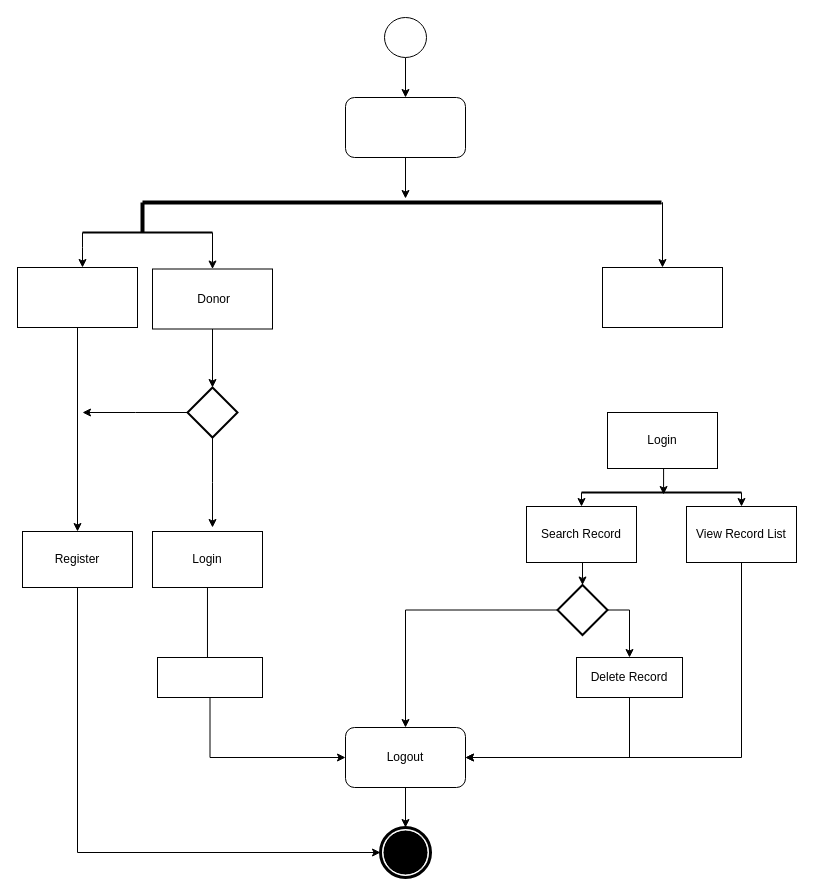
The diagram is 814 pixels wide and 895 high, and some of its shapes have lost their labels. The centre of each missing label's shape, as x and y in pixels:
"Admin" belongs at (662,297).
"Receiver" belongs at (77,297).
"START" belongs at (405,127).
"View Waiting List" belongs at (209,677).
